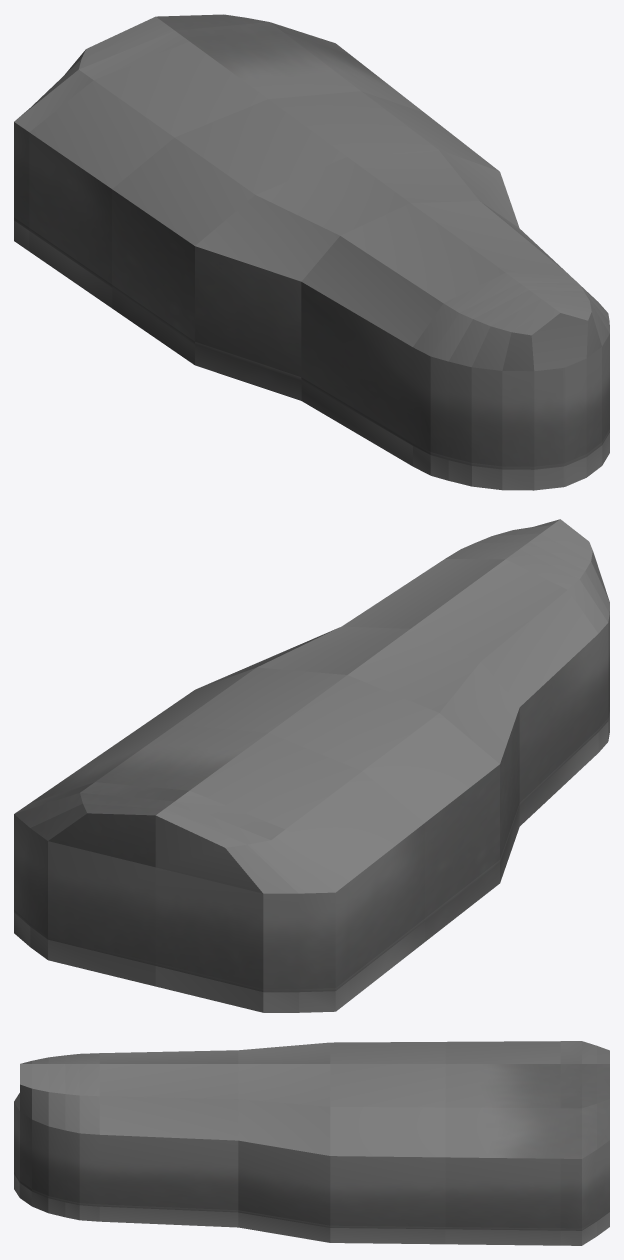
Rendered from shuttledeck.fbx.
3 renders of one model, top to bottom at view 1: azimuth 30°, elevation 25°; view 2: azimuth 150°, elevation 25°; view 3: azimuth 270°, elevation 25°, orthographic. The views are drawn at different scales.
Parts seen in each view (by area): view 1: ship base; view 2: ship base; view 3: ship base.
Boxes of the visible parts, x1=… form: ship base: x1=14, y1=14, x2=609, y2=490; ship base: x1=14, y1=519, x2=609, y2=1012; ship base: x1=14, y1=1041, x2=609, y2=1245.
Size of the model in its own units: 4040 by 2054 by 8892.
